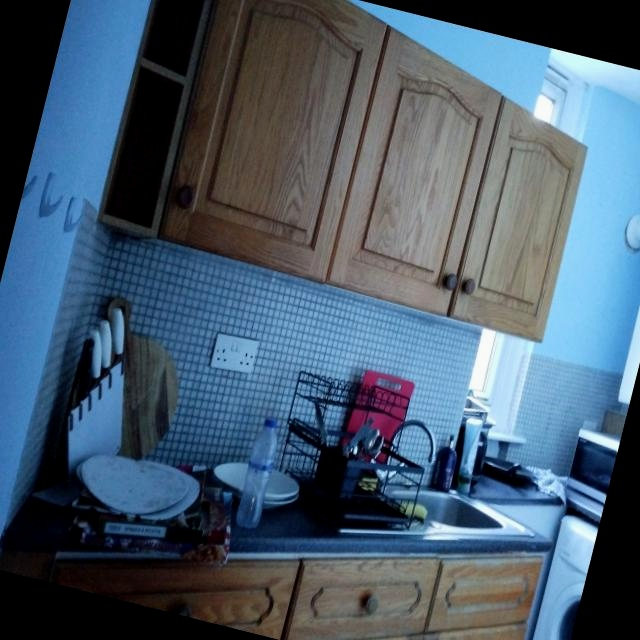countertop: (157, 0, 587, 344), (50, 553, 548, 640), (224, 507, 551, 566)
microwave: (566, 430, 619, 530)
pillow: (103, 0, 210, 230)
shower: (418, 494, 529, 541)
